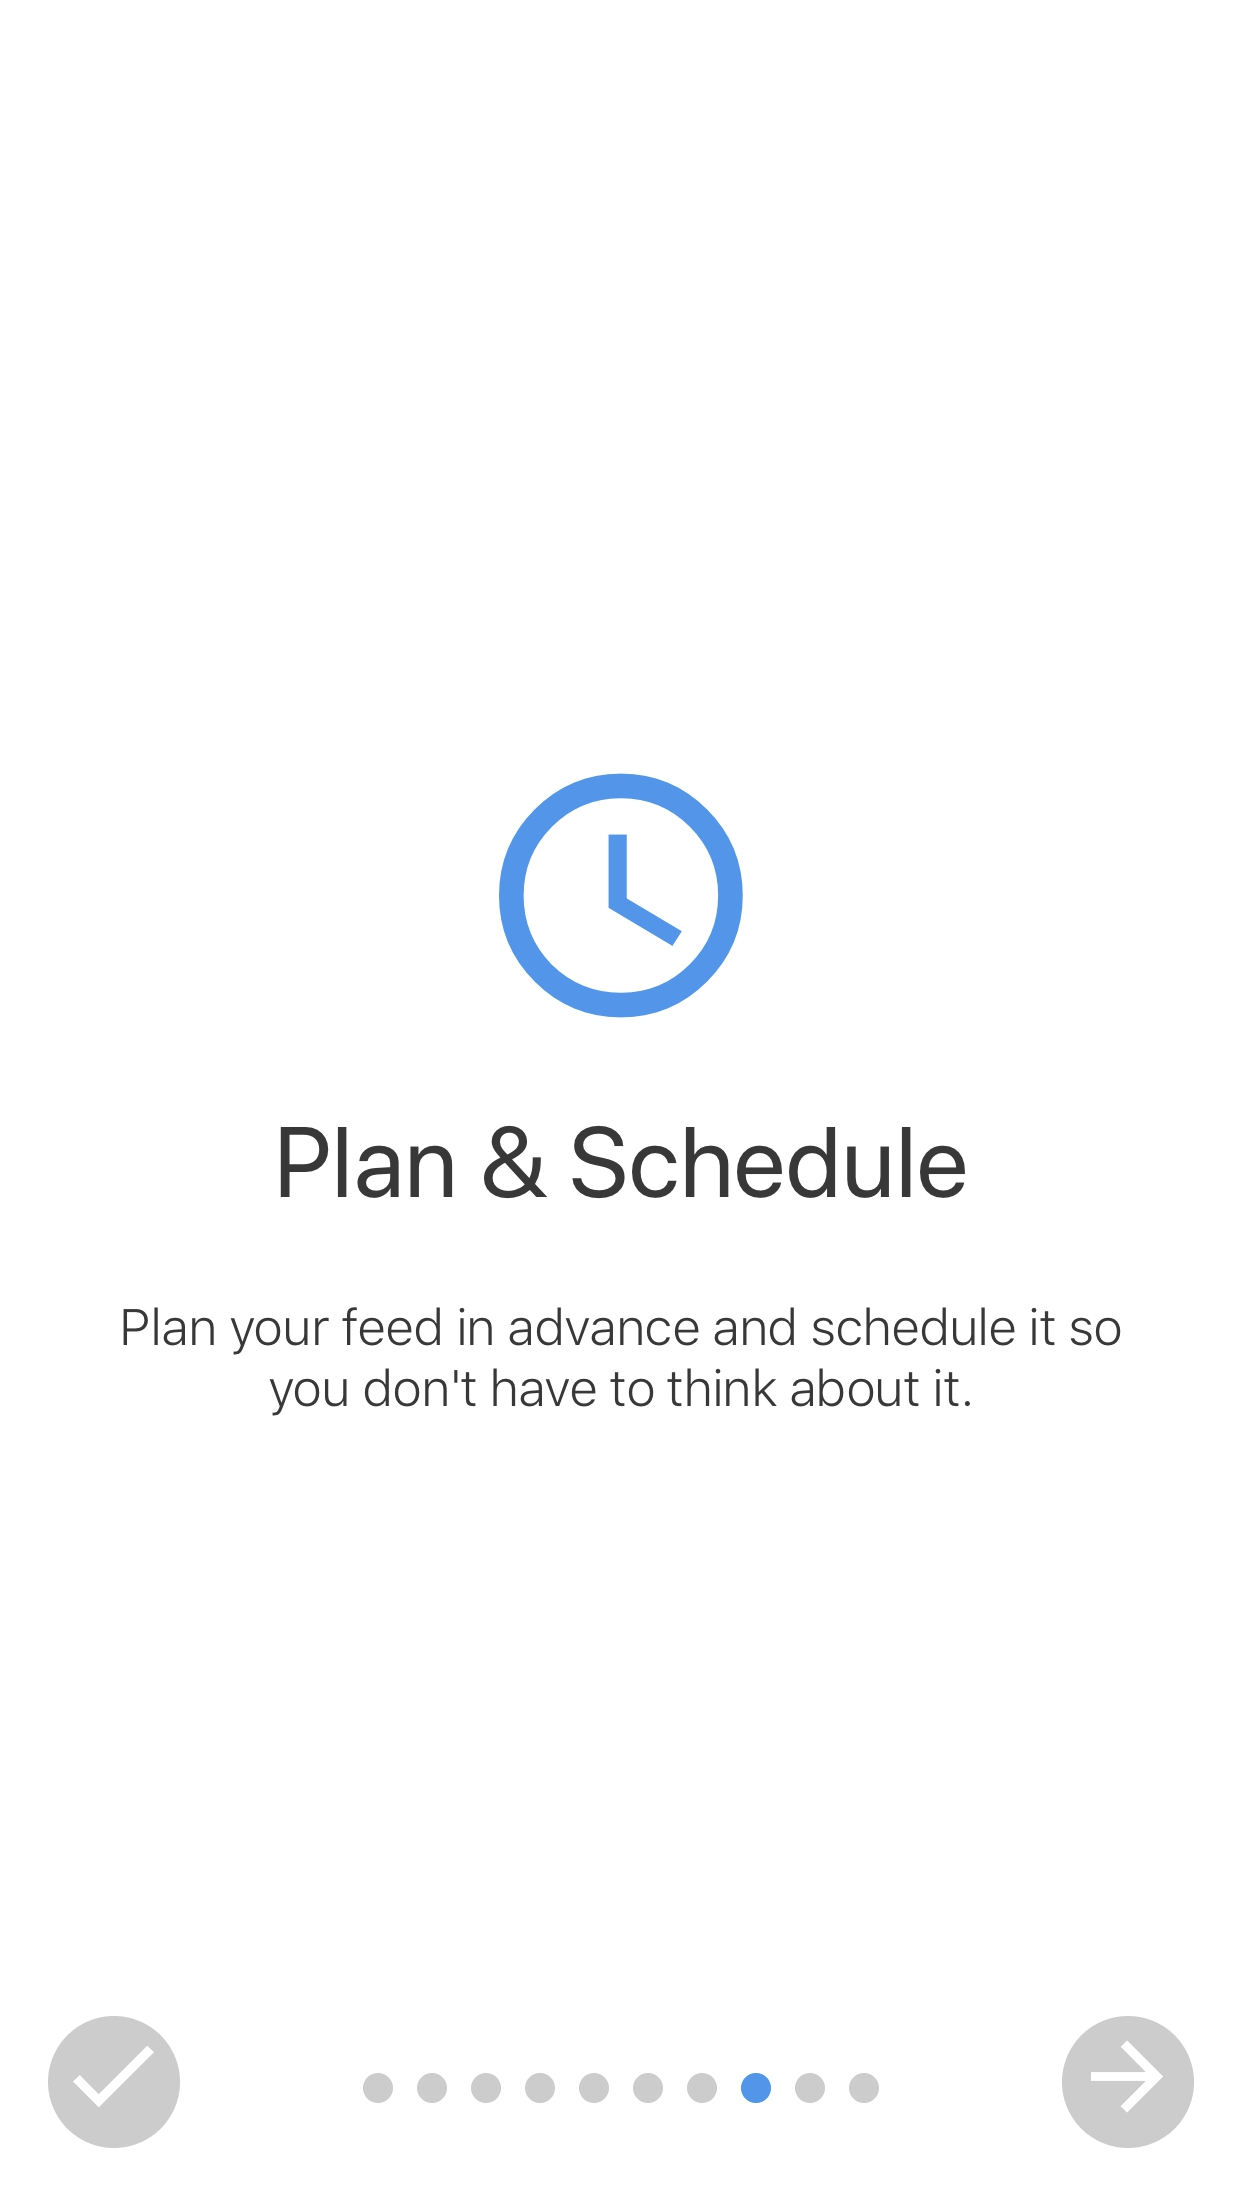Icon: (497, 773, 743, 1018), (1062, 2015, 1193, 2147), (49, 2015, 180, 2147)
PageIndicator: (362, 2072, 880, 2103)
Text: (123, 1307, 1121, 1416), (281, 1127, 964, 1198)
